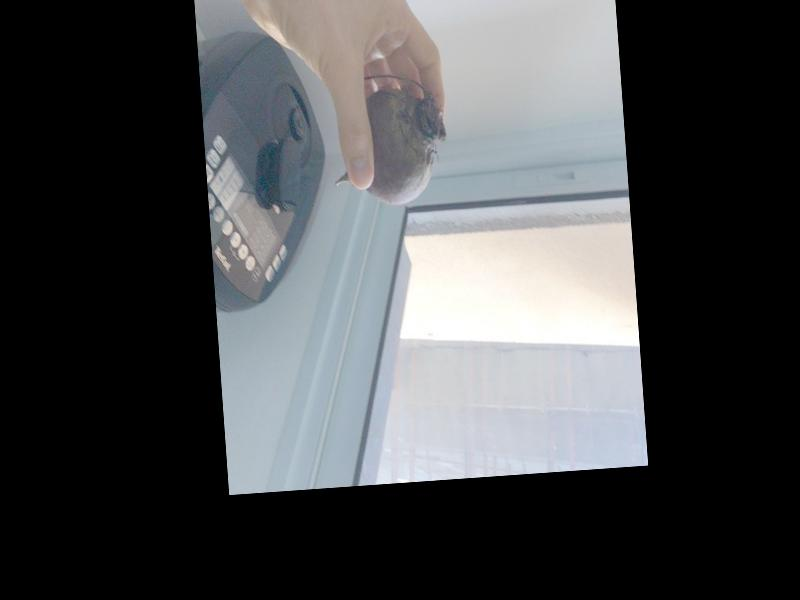Beet: (328, 72, 450, 208)
